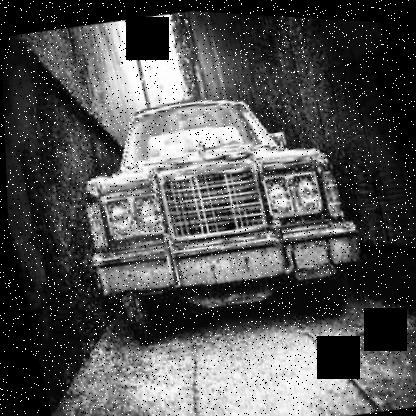not_emergency: (31, 45, 386, 361)
